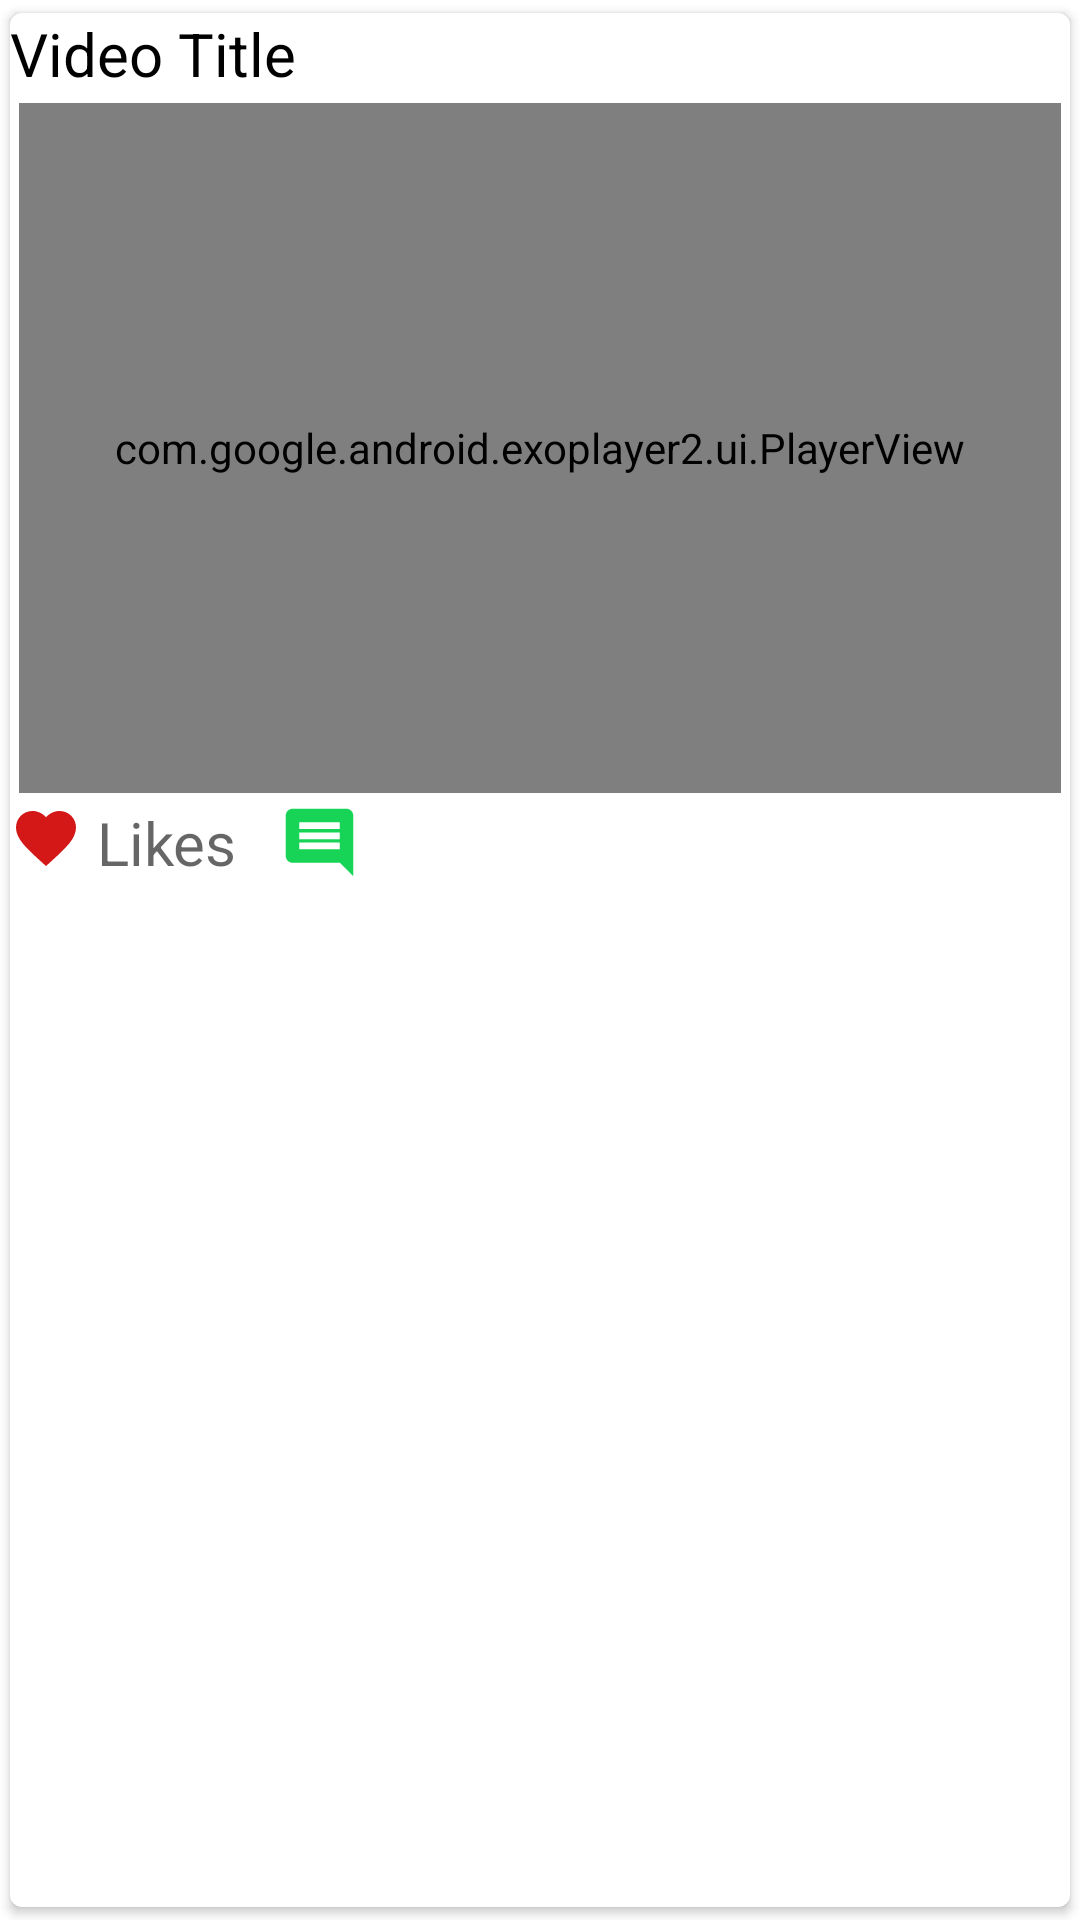

Point at icon controls on the screen. Image size 1080 x 1920, points as point (x, y).
comment: point (319, 842)
favorite: point (46, 838)
